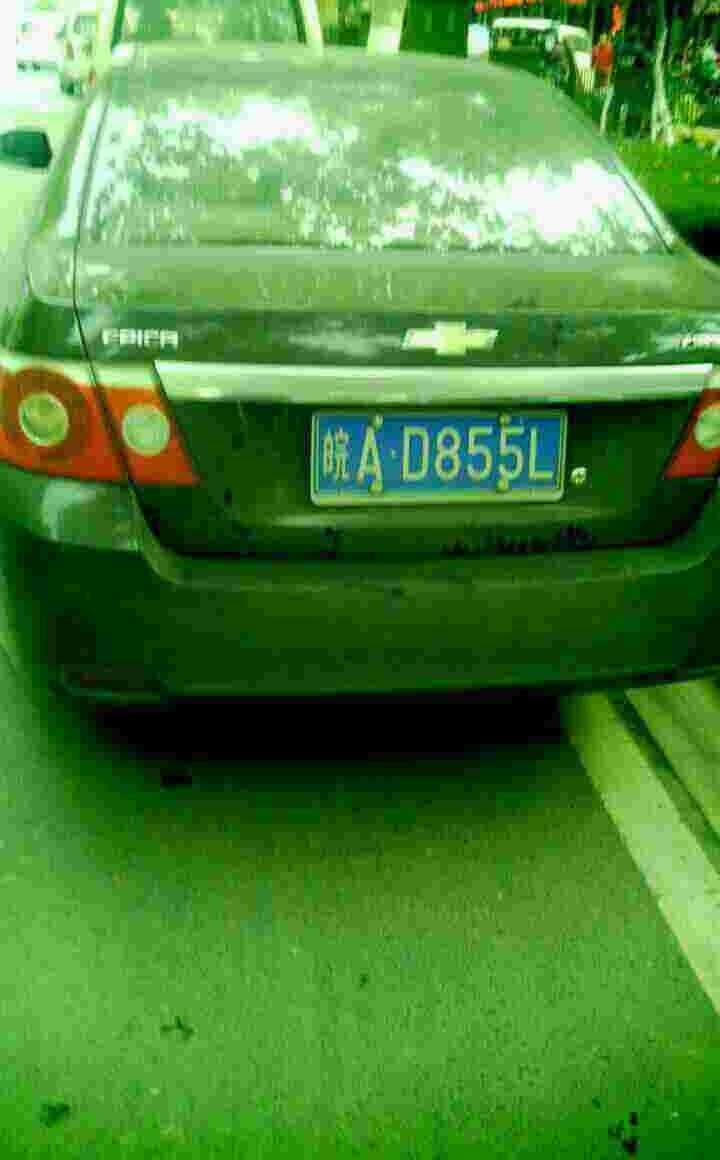license_plate: (325, 415, 559, 493)
